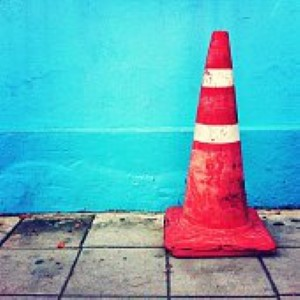traffic cone: (164, 31, 275, 258)
